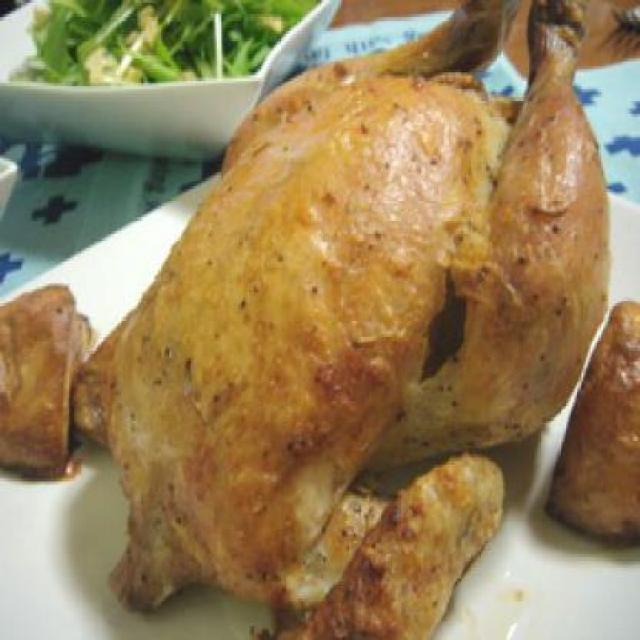Chicken roast: (108, 28, 597, 637)
